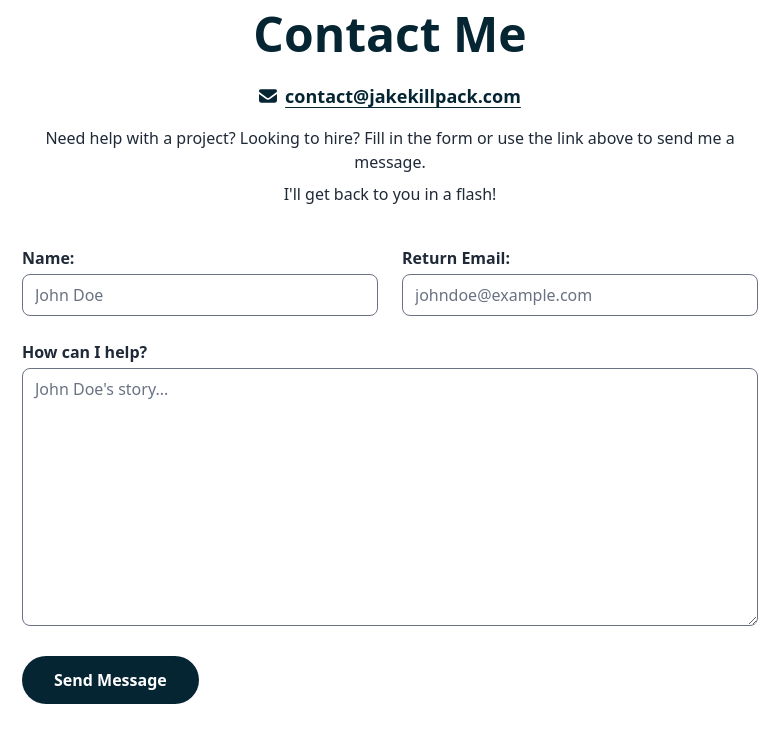
ContactMe › points to the email address once the daily limit is reached
This screenshot has width=781, height=746.
Type "Ada Lovelace" into the field labelled "Name:". click: (200, 295)
box: [22,274,378,316]
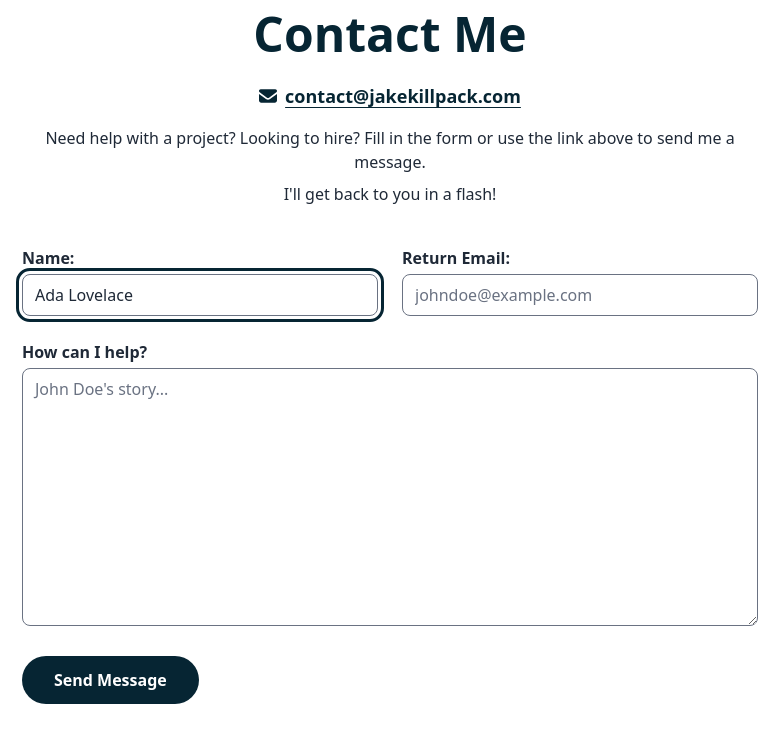
Type "ada@example.com" into the field labelled "Return Email:". click: (580, 295)
box: [402,274,758,316]
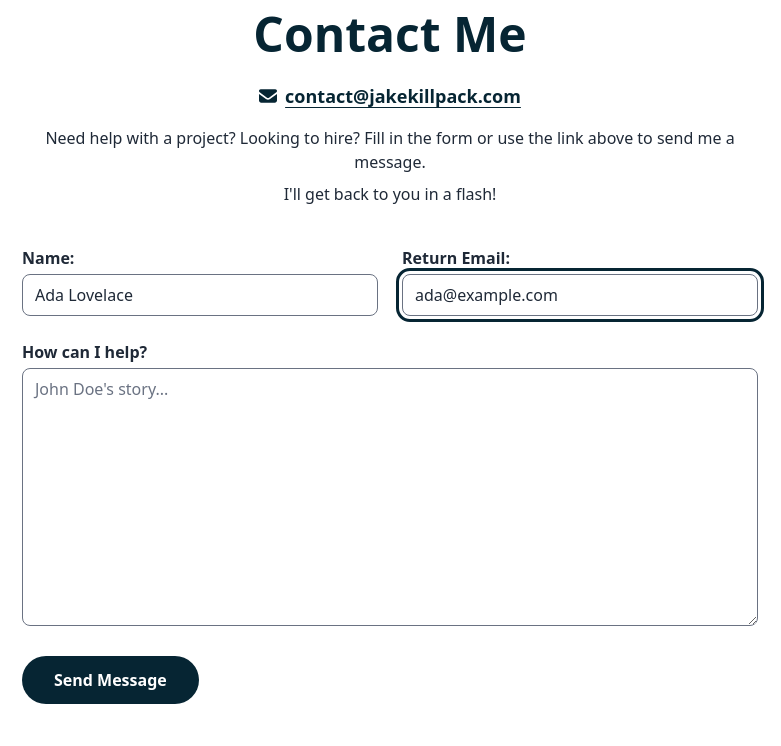
Type "Hello there" into the text box labelled "How can I help?". click: (390, 497)
box: [22,368,758,626]
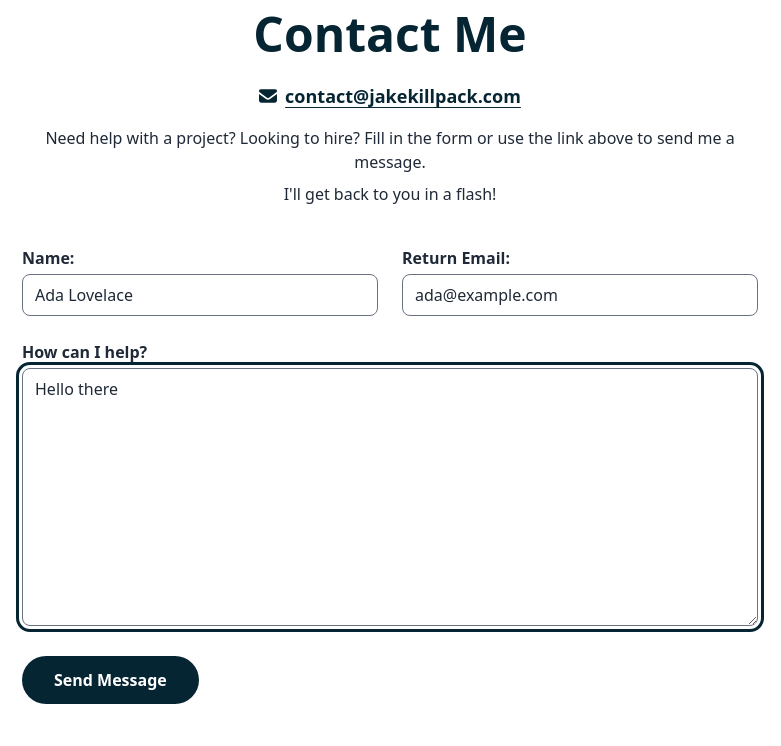
Click the button "Send Message". click: (110, 680)
box: [22,656,199,704]
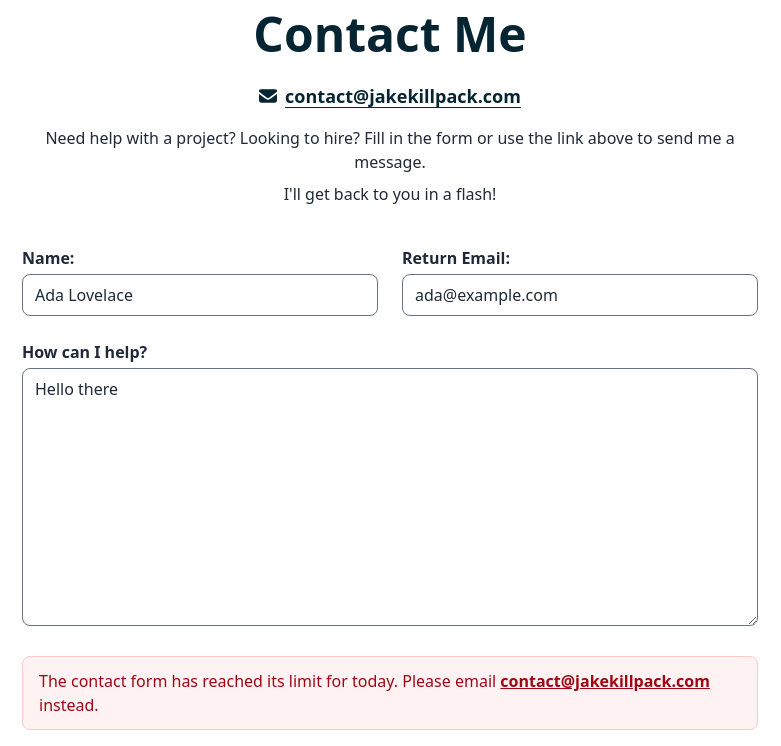
Expected: the message shows "The contact form has reached its limit for today. Please email contact@jakekillpack.com instead.", [22,656,758,730]
